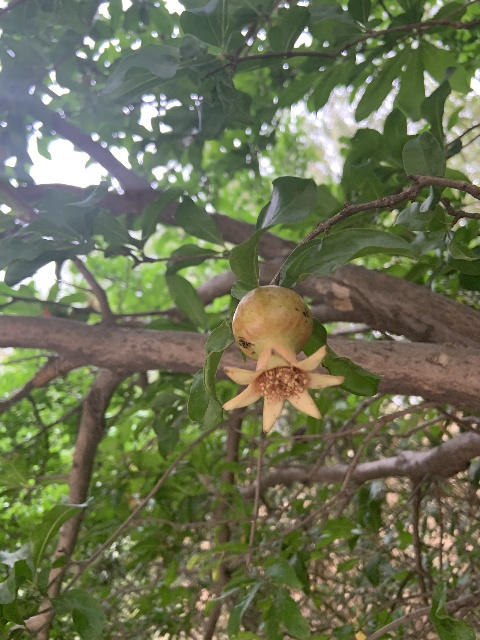early-fruit: (221, 285, 344, 434)
